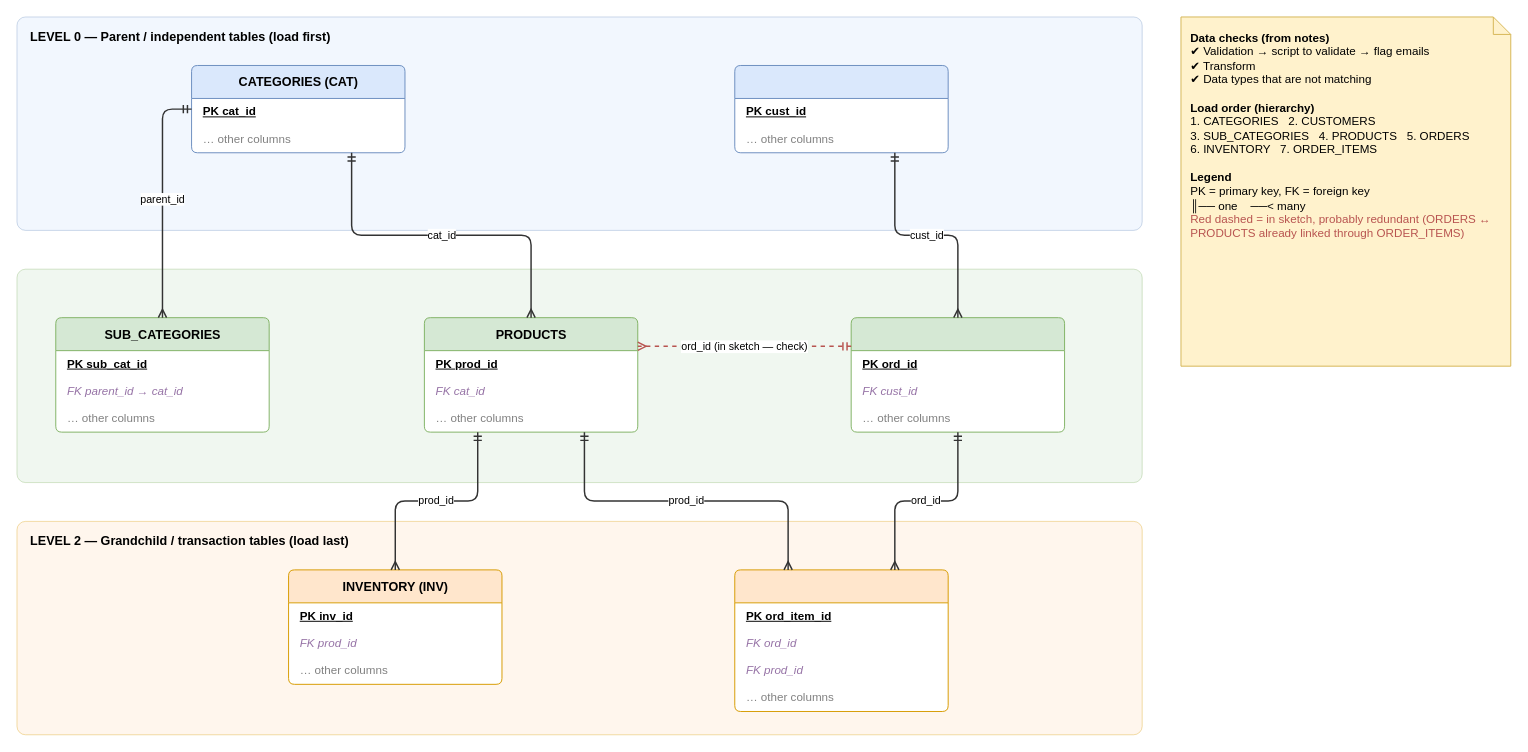
The diagram is 1528 pixels wide and 752 high, and some of its shapes have lost their labels. The box of each missing label's shape, as (x1, y1, x2, y2) in pixels:
CUSTOMERS (CUS): (734, 65, 948, 153)
LEVEL 1 — Child tables (depend on Level 0): (16, 268, 1142, 483)
ORDER_ITEMS (ORD_ITEM): (734, 569, 948, 711)
ORDERS: (850, 317, 1065, 432)
